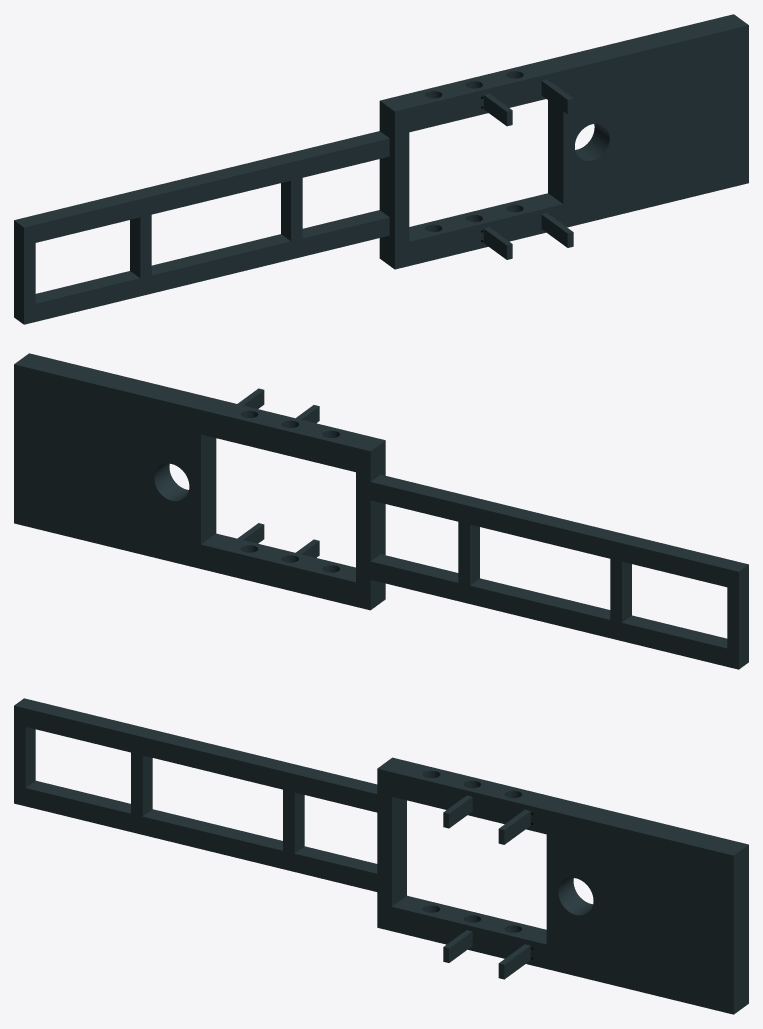
The model's file is bedplate.obj.
The picture shows the model from 3 angles, top to bottom: view 1: azimuth 30°, elevation 25°; view 2: azimuth 150°, elevation 25°; view 3: azimuth 330°, elevation 25°; orthographic projection.
Visible parts, largest first — view 1: bedplate; view 2: bedplate; view 3: bedplate.
Boxes of the visible parts, <box> form: bedplate: <box>14,14,748,324</box>; bedplate: <box>14,353,748,669</box>; bedplate: <box>14,698,748,1014</box>.
Bounding box in the file's own units: 12.4 × 2.6 × 1.23.
